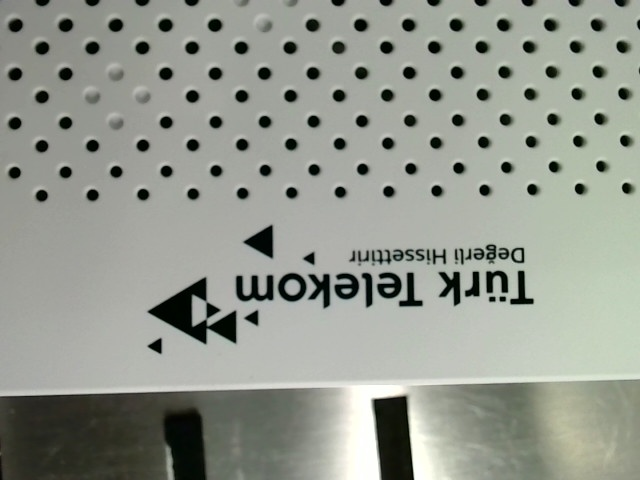AQ_TURKTelekom: (133, 218, 549, 359)
